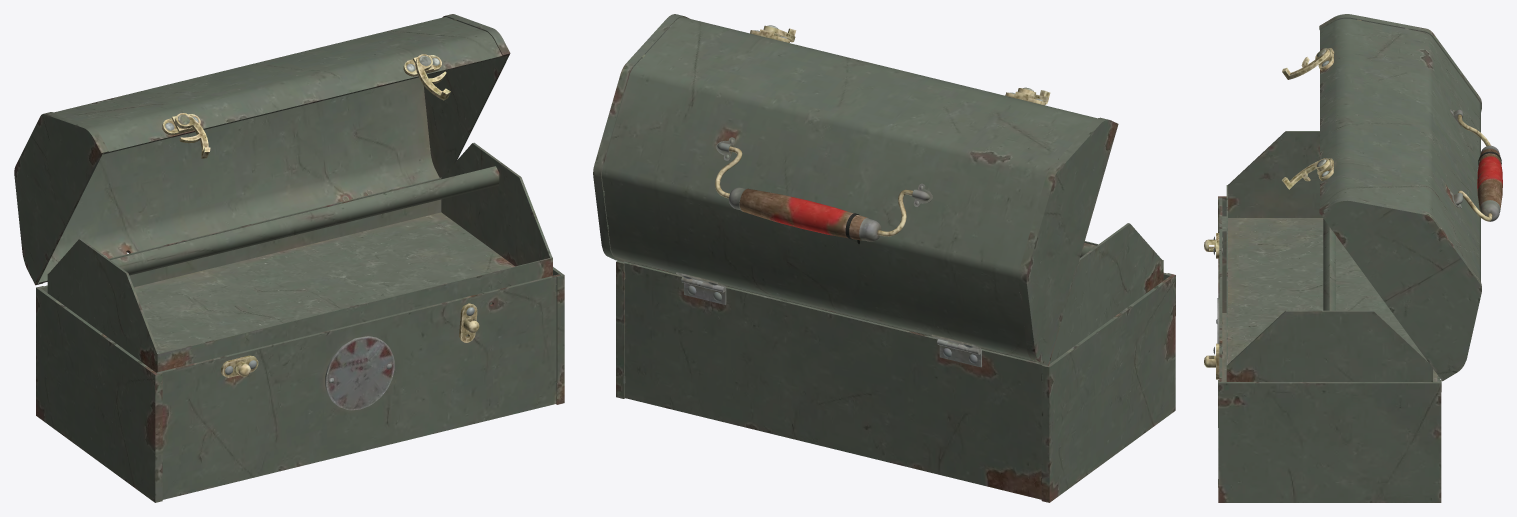
File: caixa-ferramentas.glb
3 views of the same model, side by side, from view 1: azimuth 30°, elevation 25°; view 2: azimuth 150°, elevation 25°; view 3: azimuth 270°, elevation 25° (orthographic). The views are drawn at different scales.
Parts seen in each view (by area): view 1: Cylinder.015, metal_toolbox, metal_toolbox_tray, metal_toolbox_handle_latch_r, metal_toolbox_handle_latch_l; view 2: Cylinder.015, metal_toolbox, metal_toolbox_tray, metal_toolbox_handle; view 3: Cylinder.015, metal_toolbox_tray, metal_toolbox, metal_toolbox_handle, metal_toolbox_handle_latch_l, metal_toolbox_handle_latch_r.
Part boxes in pixels (<box>): Cylinder.015: <box>14,14,510,285</box>; metal_toolbox: <box>36,267,564,502</box>; metal_toolbox_tray: <box>47,142,552,372</box>; metal_toolbox_handle_latch_r: <box>415,54,450,100</box>; metal_toolbox_handle_latch_l: <box>175,113,210,158</box>; Cylinder.015: <box>593,14,1118,365</box>; metal_toolbox: <box>616,260,1175,502</box>; metal_toolbox_tray: <box>628,223,1163,363</box>; metal_toolbox_handle: <box>715,146,912,244</box>; Cylinder.015: <box>1317,14,1481,381</box>; metal_toolbox_tray: <box>1226,131,1432,381</box>; metal_toolbox: <box>1204,196,1441,502</box>; metal_toolbox_handle: <box>1457,114,1502,221</box>; metal_toolbox_handle_latch_l: <box>1282,48,1330,79</box>; metal_toolbox_handle_latch_r: <box>1282,158,1330,189</box>.
Bounding box in the file's own units: 0.4 × 0.3047 × 0.2705.
Materials: 1 (1 with a texture image).
